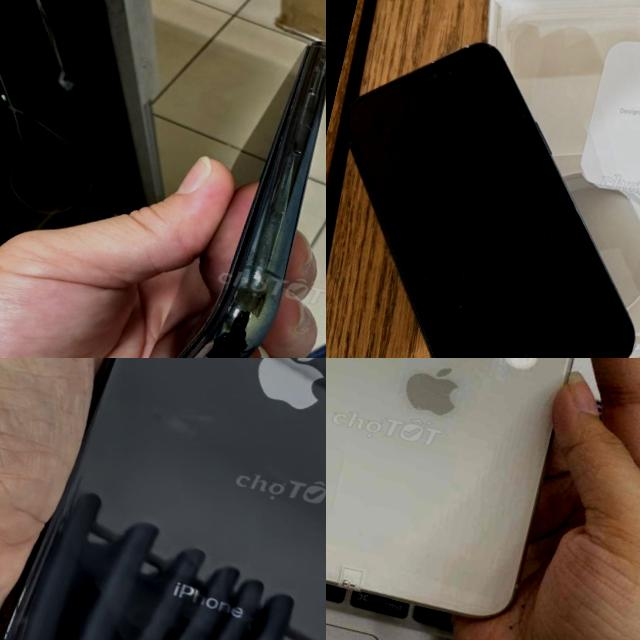physical_damage: (454, 38, 478, 52), (422, 52, 440, 68)
scratch: (291, 40, 326, 90)
